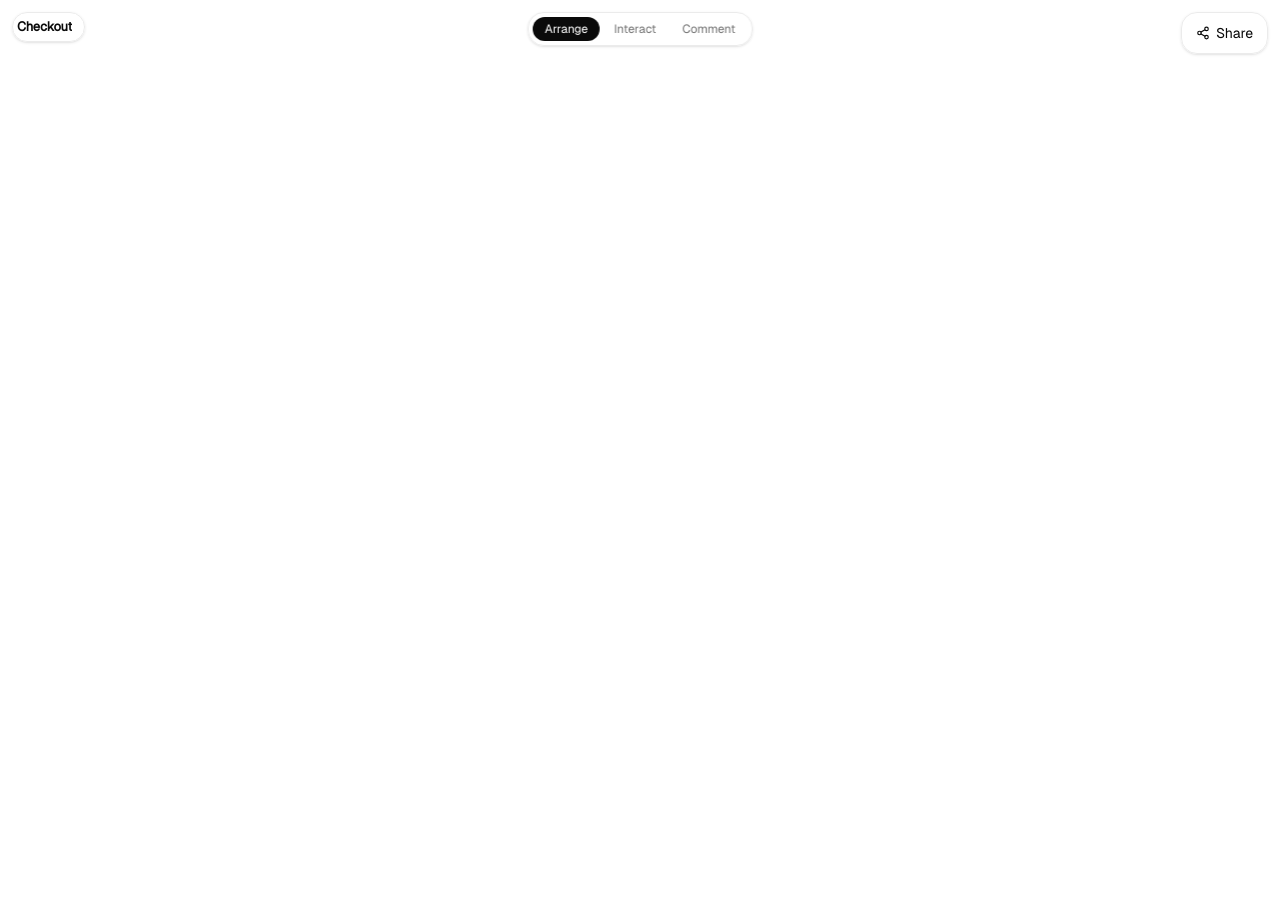
PrototypeChrome › exposes a share action that mints a prototype share link
Check: the heading "Checkout" is shown, box [17,17,72,37]
Click the button with aria-label "share prototype": point(1224, 33) [1186,17,1263,49]
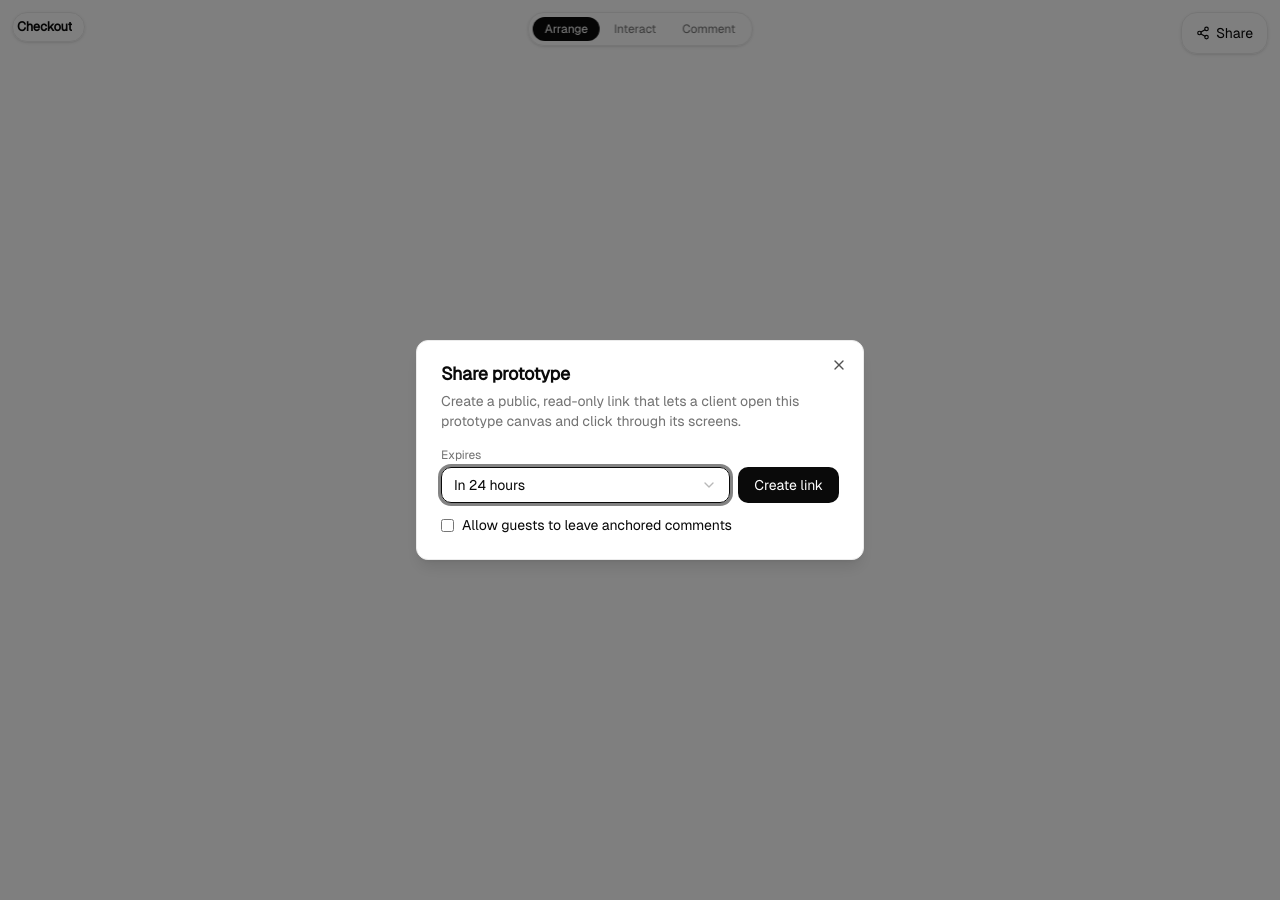
Click the button "Create link": point(789, 485) [738,467,839,503]
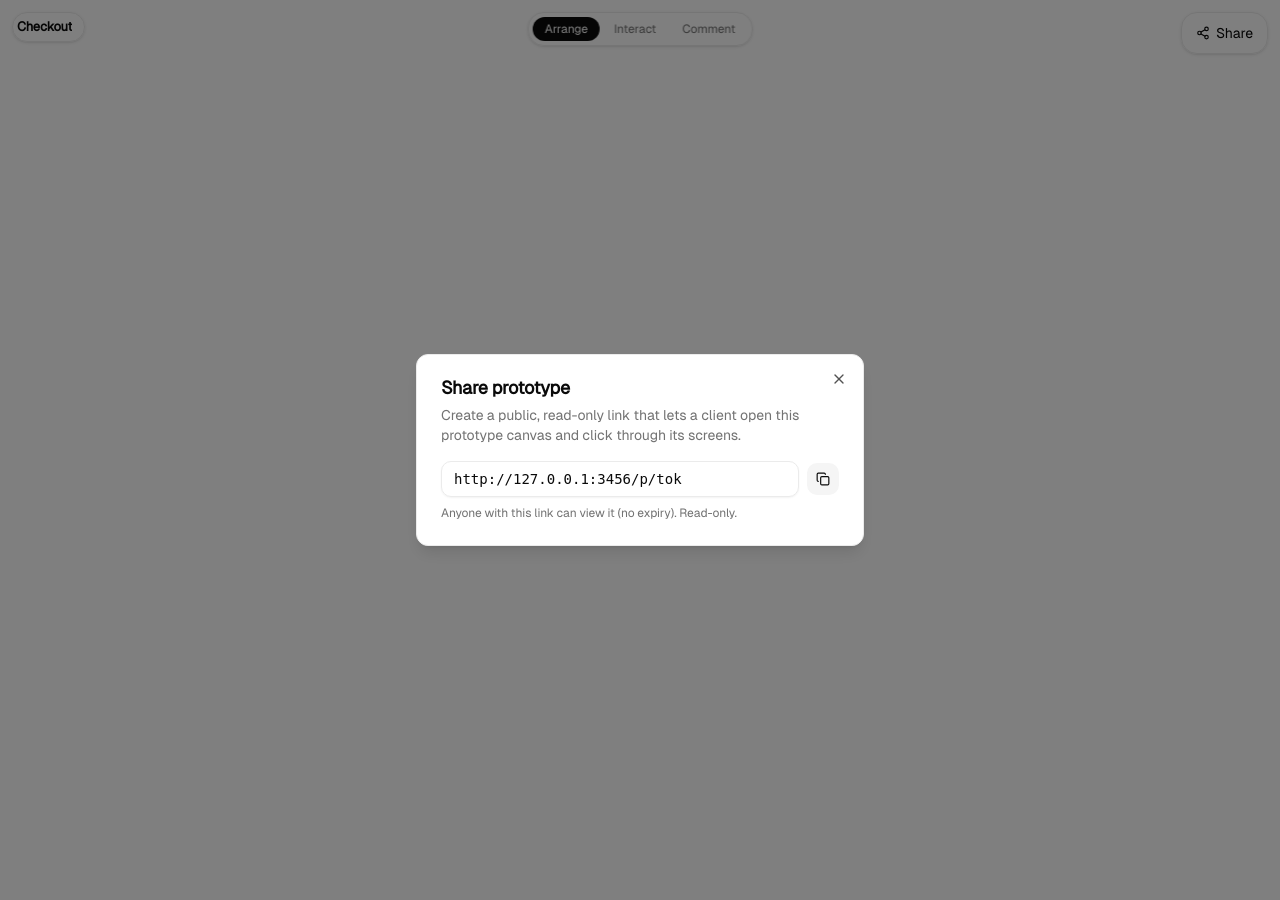
Check: the field showing "http://127.0.0.1:3456/p/tok" is shown, box [441,461,799,497]
